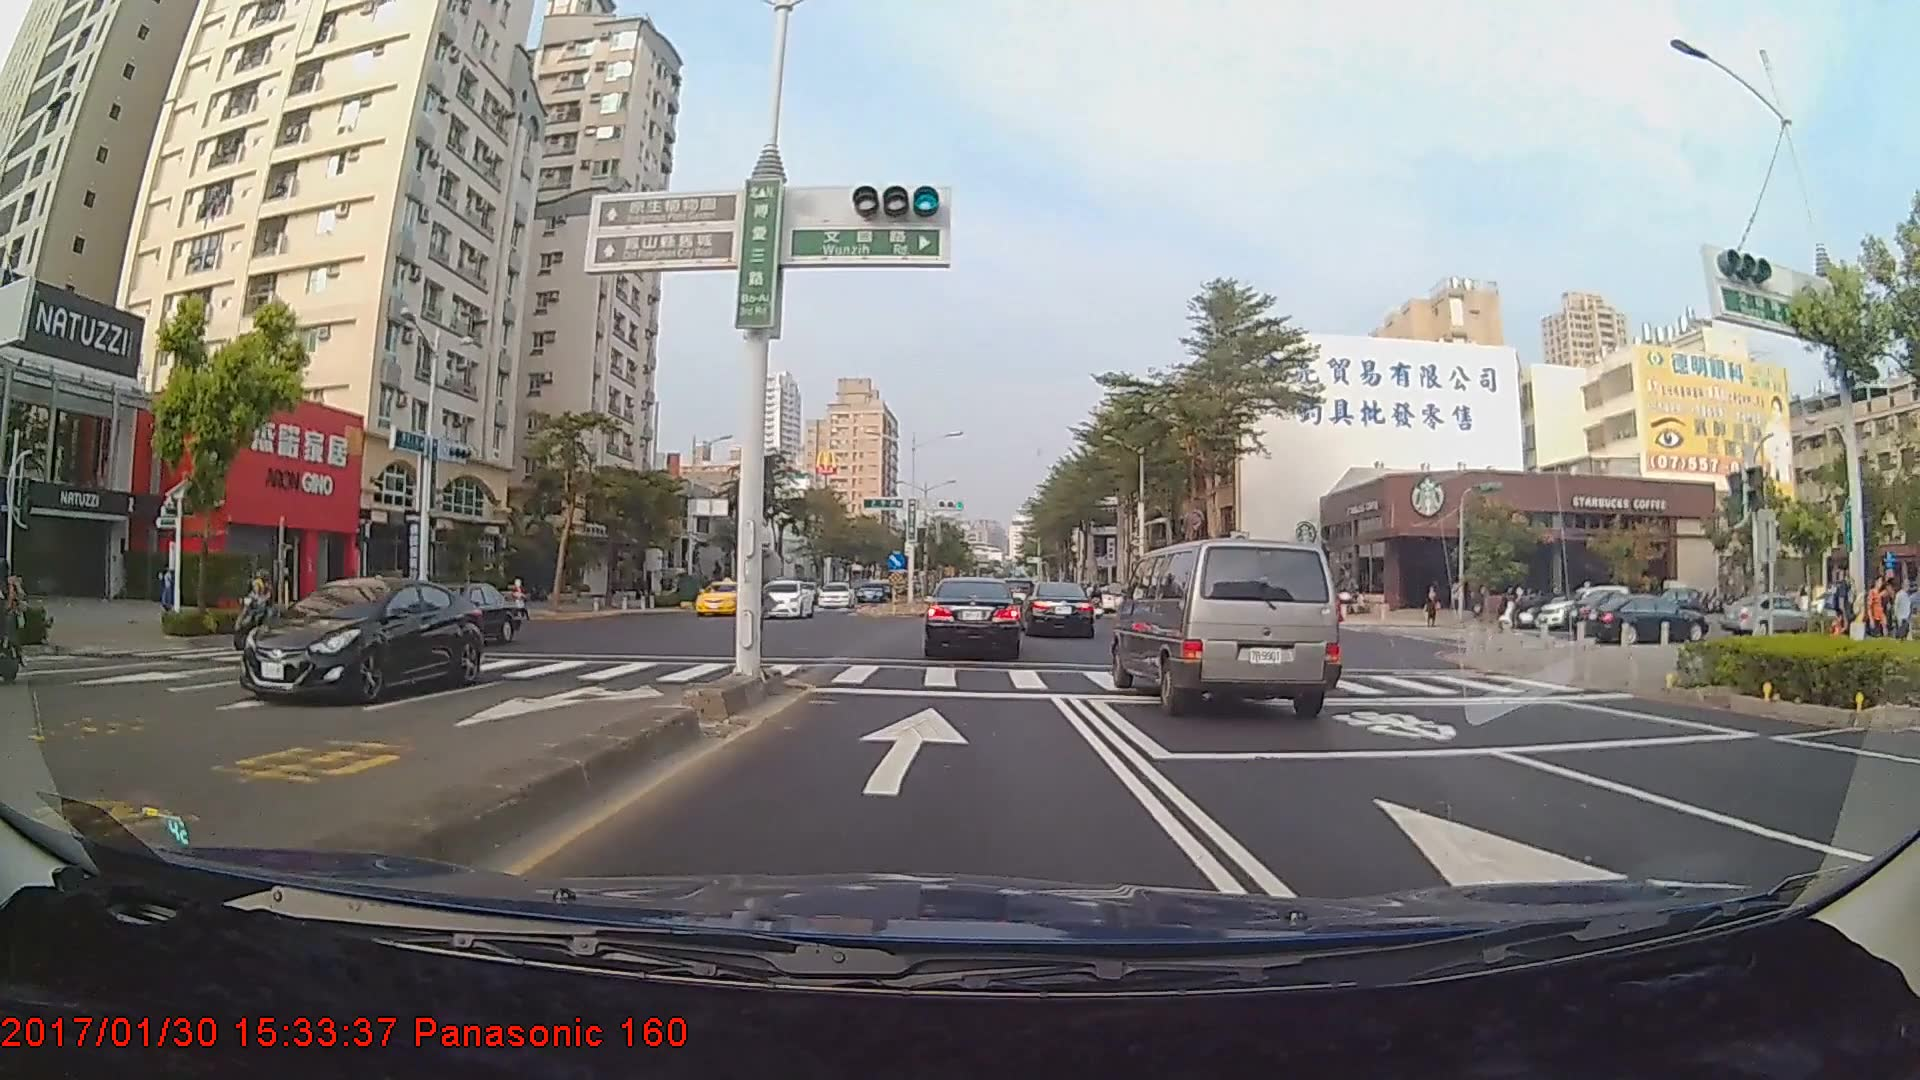pedestrian: (1828, 567, 1858, 656), (1863, 576, 1886, 654), (1894, 580, 1914, 650)
rider: (228, 577, 290, 652), (1497, 584, 1544, 632)
vehicle: (1112, 535, 1342, 718), (235, 575, 484, 706), (384, 578, 522, 647), (1592, 584, 1721, 646), (922, 577, 1023, 656), (1724, 590, 1814, 640), (1021, 581, 1096, 639), (754, 576, 817, 619), (693, 578, 753, 617), (813, 582, 853, 610)
